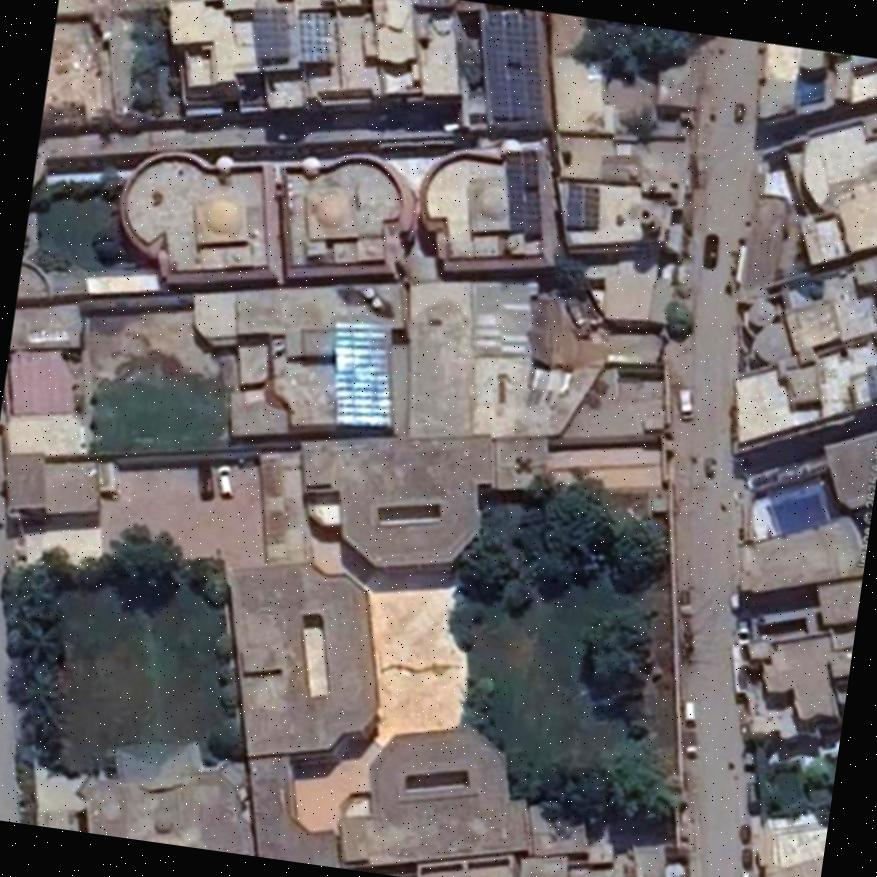Solarpanel: (483, 11, 543, 118), (331, 322, 389, 428), (506, 151, 539, 229), (254, 6, 285, 58), (299, 9, 328, 61), (565, 184, 598, 228)
